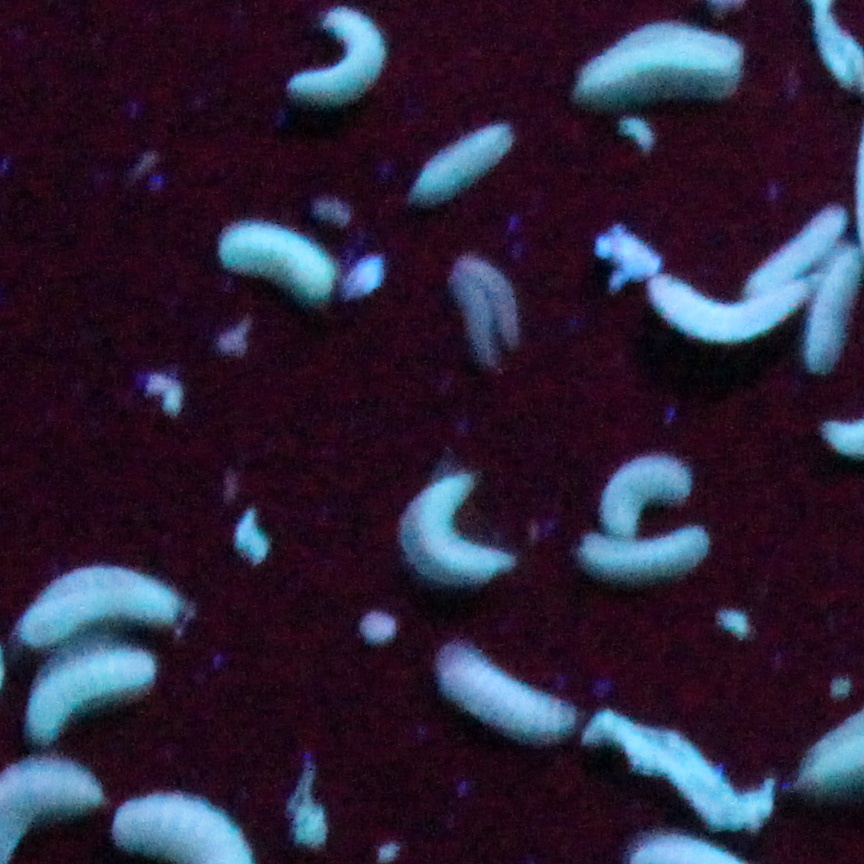larve: (11, 565, 192, 649), (438, 638, 581, 742), (394, 469, 517, 588), (33, 644, 156, 749), (571, 24, 744, 94), (650, 278, 813, 338), (738, 207, 846, 297), (406, 119, 517, 201), (225, 224, 336, 303), (288, 9, 386, 92), (598, 455, 692, 538), (798, 247, 861, 369), (581, 534, 708, 578)
